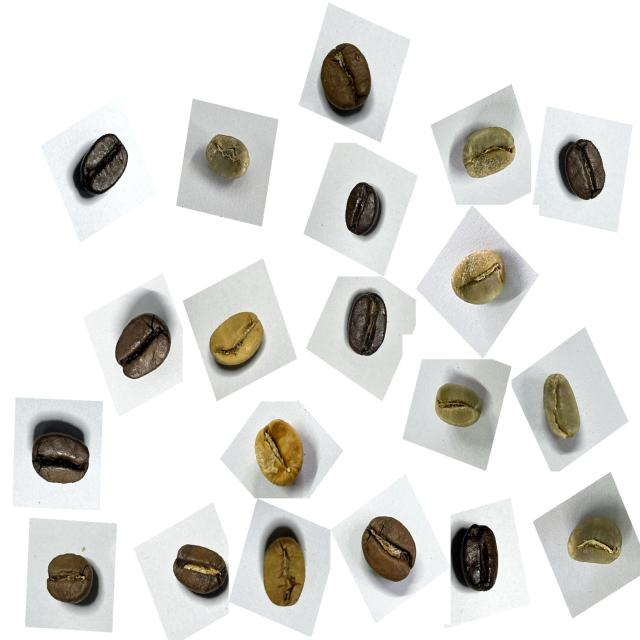dark: (23, 409, 100, 502), (106, 302, 182, 394), (65, 124, 136, 211), (444, 514, 512, 604), (553, 131, 620, 218), (334, 287, 398, 371), (335, 172, 393, 247)
green: (442, 239, 516, 320), (557, 504, 633, 582), (527, 366, 593, 455), (452, 116, 526, 194), (425, 372, 492, 444), (195, 122, 261, 194)
light: (252, 522, 318, 621), (202, 300, 275, 384), (244, 409, 314, 496)
medium: (352, 506, 429, 597), (313, 33, 387, 123), (166, 534, 235, 609), (37, 543, 104, 618)
